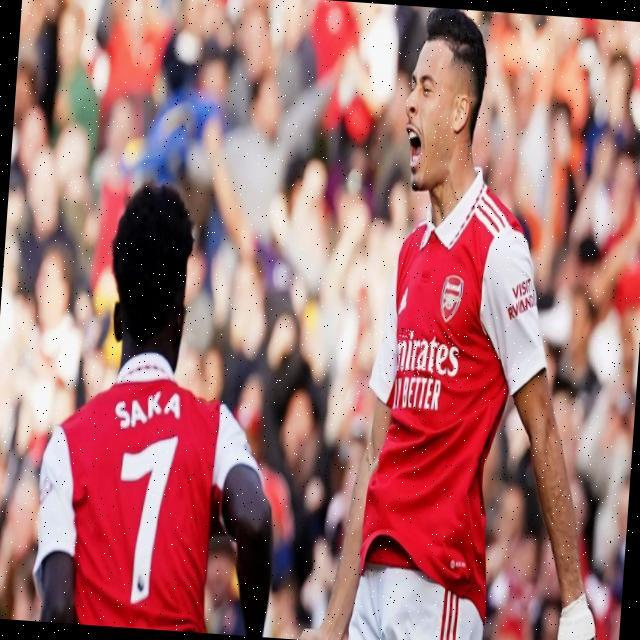Adidas: (397, 283, 410, 316)
Emirates: (396, 328, 461, 380)
